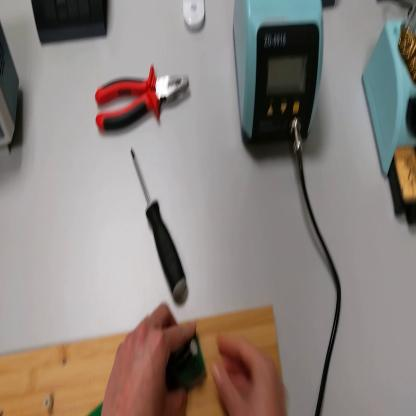hand: (104, 302, 196, 413), (213, 332, 285, 414)
high voltage board: (94, 341, 205, 416)
oscilloscope: (2, 17, 25, 158)
pliers: (94, 66, 191, 135)
screwdriver-: (131, 151, 188, 298)
socket: (378, 1, 416, 9), (322, 1, 336, 9)
welder base: (360, 6, 416, 229)
welder station: (232, 3, 327, 160)
working area: (2, 305, 286, 416)
